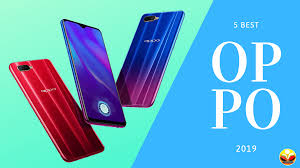oppo: (7, 53, 110, 165), (108, 7, 188, 109)
